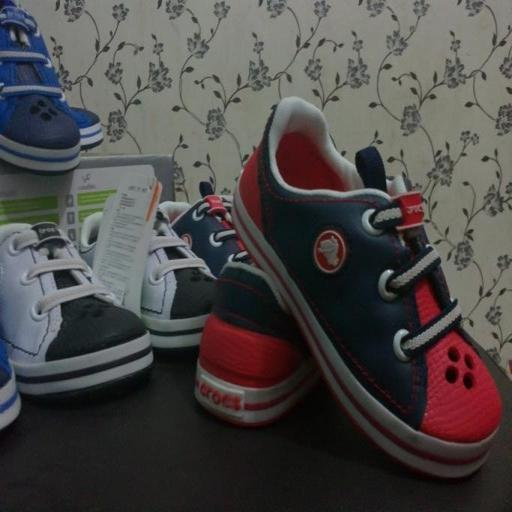shoe: (233, 98, 502, 478), (0, 223, 153, 397), (195, 262, 319, 427), (80, 208, 215, 349), (0, 0, 80, 174), (161, 182, 248, 277), (70, 107, 103, 150)
